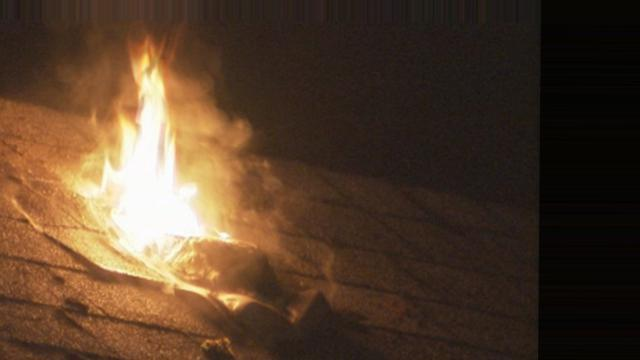fire: (63, 28, 273, 299)
